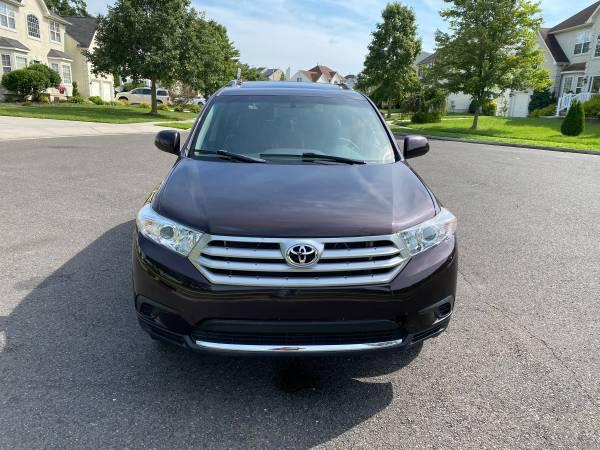Front_Bumper: (129, 229, 458, 356)
Front_Windshield: (184, 91, 401, 166)
Grille: (187, 233, 409, 286)
Hood: (149, 156, 440, 235)
Left_Headlight: (395, 207, 456, 257)
Left_Mirror: (403, 133, 432, 157)
Right_Headlight: (138, 201, 206, 256)
Right_Mirror: (152, 129, 182, 157)
Roof: (210, 76, 369, 98)
